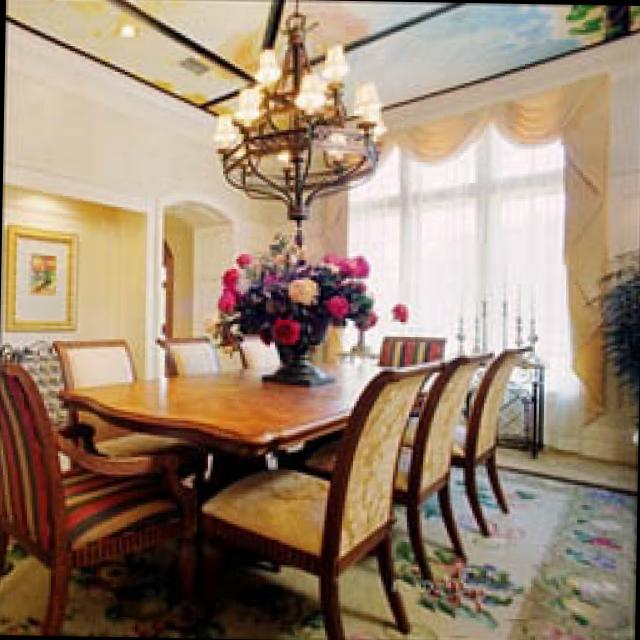2011: (323, 77, 604, 395)
bouquet: (220, 232, 380, 385)
candle holder: (478, 261, 495, 348), (501, 261, 517, 341), (457, 265, 471, 347), (527, 279, 542, 334), (515, 278, 527, 339)
ceiling beam: (10, 0, 640, 140)
ceiling lamps: (211, 9, 388, 217)
chair: (52, 334, 144, 386), (155, 331, 224, 370), (382, 329, 450, 367), (245, 334, 287, 366)
chair -occluded-: (192, 357, 444, 633), (4, 362, 200, 626), (395, 351, 494, 579), (458, 344, 532, 533)
curtain crop: (398, 70, 616, 427)
door handle: (165, 210, 204, 335)
painting crop: (7, 220, 84, 331)
plant -x: (585, 246, 639, 465)
side: (437, 347, 549, 451)
table -X: (56, 353, 472, 441)
